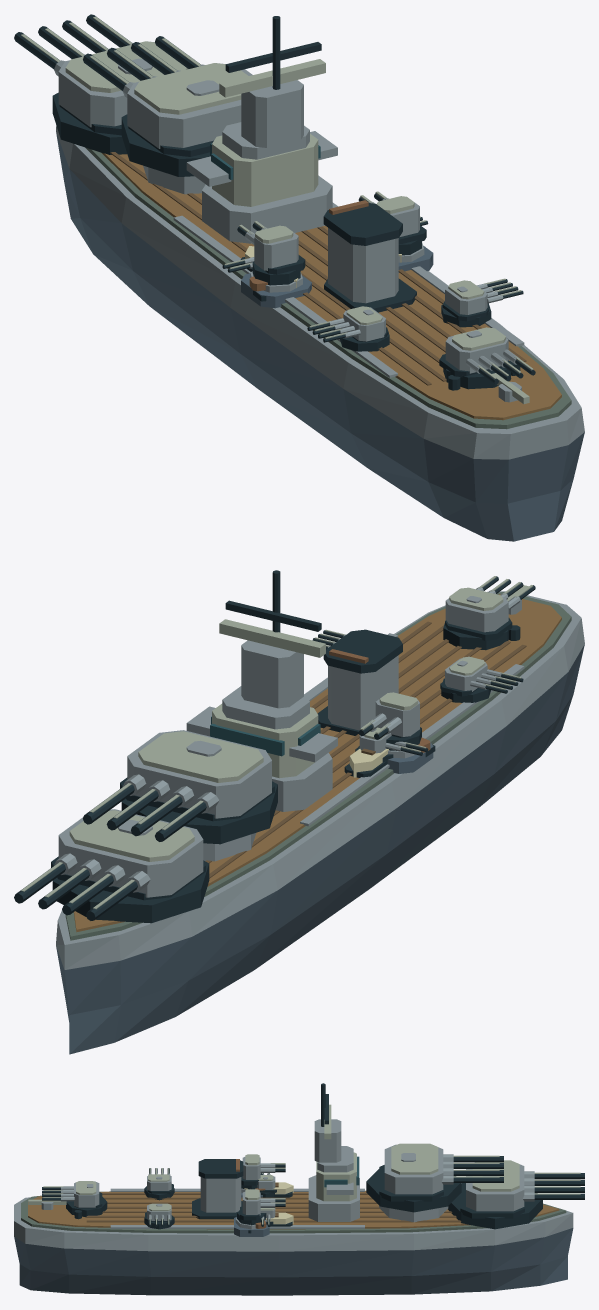
Rendered from historic-dunkerque.glb.
3 renders of one model, top to bottom at view 1: azimuth 30°, elevation 25°; view 2: azimuth 150°, elevation 25°; view 3: azimuth 270°, elevation 25°, orthographic. The views are drawn at different scales.
Parts seen in each view (by area): view 1: historic-dunkerque-historic-dunkerque-geometry, historic-dunkerque-part_bridge.043-geometry, historic-dunkerque-turret_main_1.032-geometry, historic-dunkerque-turret_main_0.033-geometry, historic-dunkerque-historic_funnel_0.044-geometry, historic-dunkerque-turret_secondary_2.010-geometry, historic-dunkerque-turret_aa_aa-port.045-geometry, historic-dunkerque-turret_secondary_1.012-geometry, historic-dunkerque-turret_secondary_0.012-geometry, historic-dunkerque-turret_aa_aa-starboard.043-geometry, historic-dunkerque-part_aa-port.045-geometry; view 2: historic-dunkerque-historic-dunkerque-geometry, historic-dunkerque-part_bridge.043-geometry, historic-dunkerque-turret_main_1.032-geometry, historic-dunkerque-turret_main_0.033-geometry, historic-dunkerque-historic_funnel_0.044-geometry, historic-dunkerque-turret_secondary_2.010-geometry, historic-dunkerque-turret_secondary_0.012-geometry, historic-dunkerque-turret_aa_aa-port.045-geometry, historic-dunkerque-turret_secondary_3.009-geometry, historic-dunkerque-part_aa-port.045-geometry; view 3: historic-dunkerque-historic-dunkerque-geometry, historic-dunkerque-turret_main_1.032-geometry, historic-dunkerque-turret_main_0.033-geometry, historic-dunkerque-part_bridge.043-geometry, historic-dunkerque-historic_funnel_0.044-geometry, historic-dunkerque-turret_secondary_2.010-geometry, historic-dunkerque-turret_aa_aa-starboard.043-geometry, historic-dunkerque-turret_aa_aa-port.045-geometry, historic-dunkerque-turret_secondary_0.012-geometry, historic-dunkerque-turret_secondary_1.012-geometry, historic-dunkerque-part_aa-starboard.043-geometry, historic-dunkerque-turret_secondary_3.009-geometry.
Boxes of the visible parts, box(x1,y1,x2,y2) form: historic-dunkerque-historic-dunkerque-geometry: box(56, 126, 584, 541); historic-dunkerque-part_bridge.043-geometry: box(186, 16, 337, 243); historic-dunkerque-turret_main_1.032-geometry: box(83, 36, 252, 176); historic-dunkerque-turret_main_0.033-geometry: box(14, 14, 188, 154); historic-dunkerque-historic_funnel_0.044-geometry: box(323, 200, 416, 312); historic-dunkerque-turret_secondary_2.010-geometry: box(439, 327, 535, 389); historic-dunkerque-turret_aa_aa-port.045-geometry: box(237, 221, 305, 285); historic-dunkerque-turret_secondary_1.012-geometry: box(441, 278, 523, 327); historic-dunkerque-turret_secondary_0.012-geometry: box(307, 306, 389, 351); historic-dunkerque-turret_aa_aa-starboard.043-geometry: box(358, 191, 426, 255); historic-dunkerque-part_aa-port.045-geometry: box(241, 271, 311, 308); historic-dunkerque-historic-dunkerque-geometry: box(56, 585, 584, 1054); historic-dunkerque-part_bridge.043-geometry: box(186, 570, 337, 811); historic-dunkerque-turret_main_1.032-geometry: box(83, 730, 277, 844); historic-dunkerque-turret_main_0.033-geometry: box(14, 809, 209, 923); historic-dunkerque-historic_funnel_0.044-geometry: box(317, 629, 402, 735); historic-dunkerque-turret_secondary_2.010-geometry: box(443, 576, 535, 650); historic-dunkerque-turret_secondary_0.012-geometry: box(440, 656, 523, 702); historic-dunkerque-turret_aa_aa-port.045-geometry: box(358, 692, 421, 750); historic-dunkerque-turret_secondary_3.009-geometry: box(355, 727, 428, 764); historic-dunkerque-part_aa-port.045-geometry: box(387, 737, 433, 773); historic-dunkerque-historic-dunkerque-geometry: box(14, 1182, 573, 1295); historic-dunkerque-turret_main_1.032-geometry: box(366, 1143, 503, 1212); historic-dunkerque-turret_main_0.033-geometry: box(448, 1160, 584, 1229); historic-dunkerque-part_bridge.043-geometry: box(308, 1083, 359, 1221); historic-dunkerque-historic_funnel_0.044-geometry: box(192, 1159, 243, 1219); historic-dunkerque-turret_secondary_2.010-geometry: box(42, 1181, 107, 1217); historic-dunkerque-turret_aa_aa-starboard.043-geometry: box(237, 1189, 285, 1225); historic-dunkerque-turret_aa_aa-port.045-geometry: box(241, 1154, 285, 1189); historic-dunkerque-turret_secondary_0.012-geometry: box(144, 1168, 174, 1200); historic-dunkerque-turret_secondary_1.012-geometry: box(144, 1203, 174, 1229); historic-dunkerque-part_aa-starboard.043-geometry: box(234, 1217, 269, 1236); historic-dunkerque-turret_secondary_3.009-geometry: box(257, 1173, 276, 1197).
Size of the model in its own units: 1.16 by 1.84 by 4.89.
